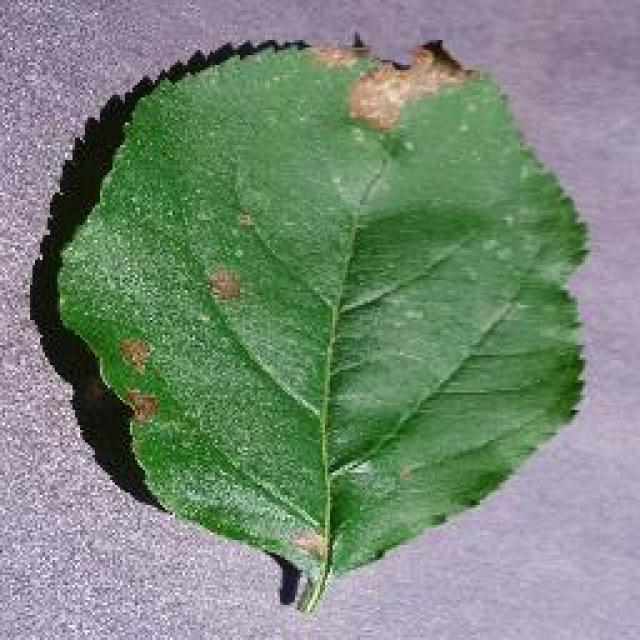apple black rot: (28, 30, 592, 610)
